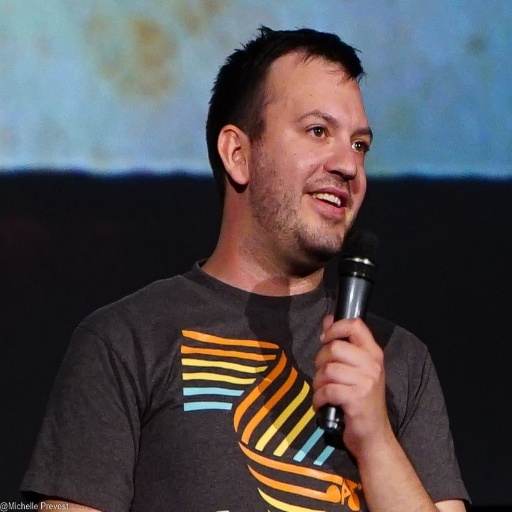hand: (312, 311, 421, 482)
